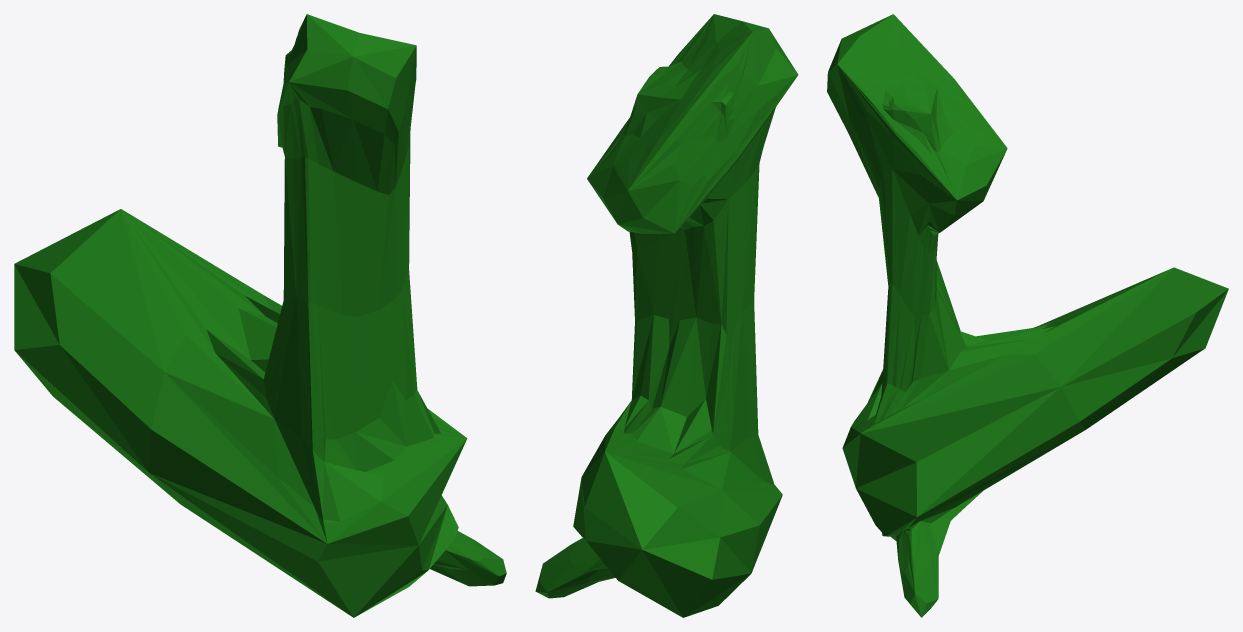
The picture shows the model from 3 angles, left to right: view 1: azimuth 30°, elevation 25°; view 2: azimuth 150°, elevation 25°; view 3: azimuth 270°, elevation 25°; orthographic projection. The views are drawn at different scales.
Parts seen in each view (by area): view 1: 180_Cube.747; view 2: 180_Cube.747; view 3: 180_Cube.747.
Boxes of the visible parts, bbox=[...] form: 180_Cube.747: bbox=[14, 14, 506, 617]; 180_Cube.747: bbox=[535, 14, 798, 617]; 180_Cube.747: bbox=[827, 14, 1228, 617].
Size of the model in its own units: 8.87 by 15.87 by 11.15.
